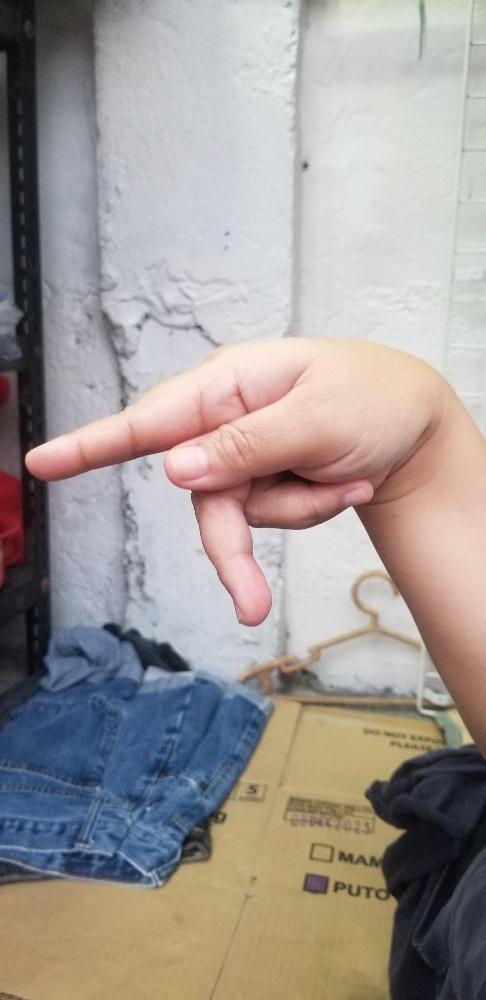p: (24, 337, 436, 626)
